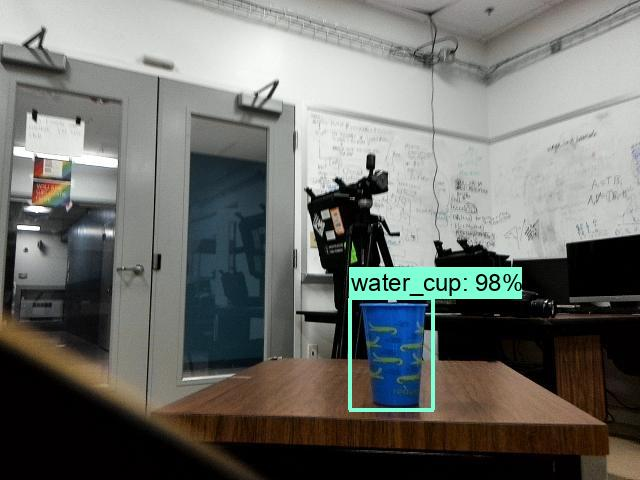water_cup: (348, 300, 436, 410)
